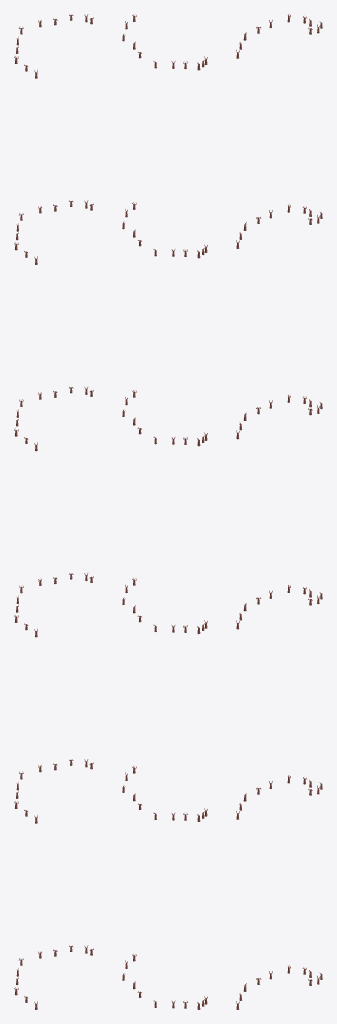
Rendered from Circle5Crowd3.obj.
3 renders of one model, left to right at view 1: azimuth 30°, elevation 25°; view 2: azimuth 150°, elevation 25°; view 3: azimuth 330°, elevation 25°, orthographic. The views are drawn at different scales.
Visible parts, largest first — view 1: Circle5Crowd3; view 2: Circle5Crowd3; view 3: Circle5Crowd3.
Part boxes in pixels (x1=…): Circle5Crowd3: x1=14, y1=14, x2=93, y2=1009; Circle5Crowd3: x1=122, y1=14, x2=207, y2=1009; Circle5Crowd3: x1=236, y1=14, x2=322, y2=1009.
Bounding box in the file's own units: 26.94 × 339 × 21.58.
1 material, 1 textured.
